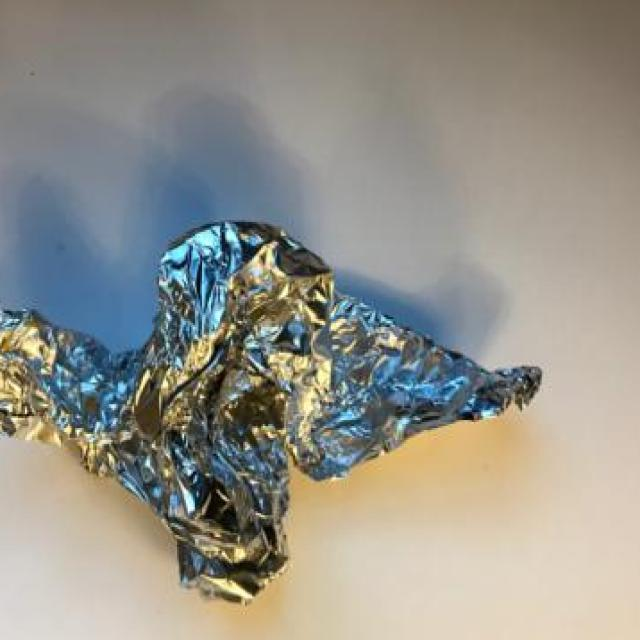organic: (6, 201, 546, 619)
